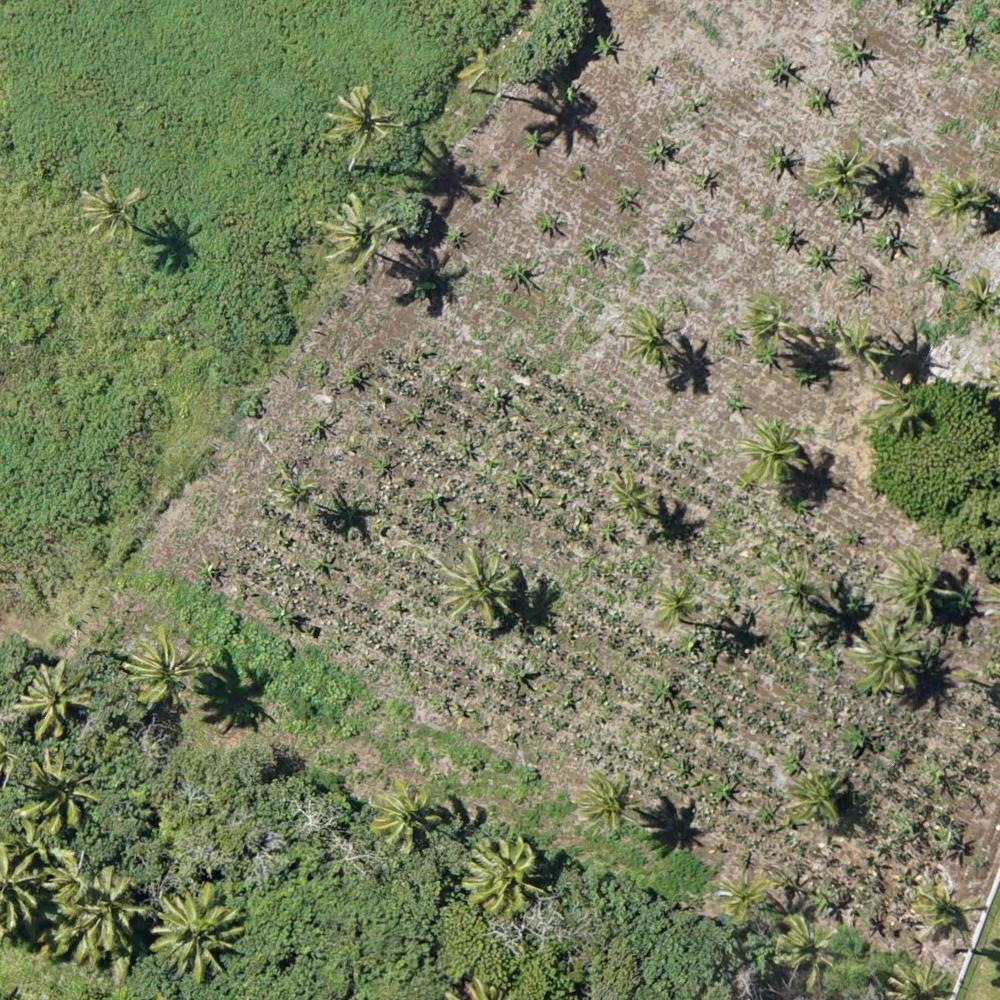Palm: (149, 886, 247, 983), (49, 861, 134, 948), (465, 833, 548, 913), (320, 196, 399, 273), (434, 547, 514, 623), (18, 755, 96, 832), (883, 544, 956, 626), (321, 84, 396, 156), (15, 664, 90, 736), (370, 778, 441, 848), (855, 625, 928, 693), (738, 412, 804, 485), (126, 634, 196, 702), (78, 178, 143, 245), (908, 882, 976, 945), (776, 911, 839, 978), (791, 765, 853, 832), (578, 769, 639, 834), (929, 168, 991, 229), (808, 140, 873, 197), (624, 305, 686, 363), (767, 555, 824, 617), (650, 574, 705, 633), (737, 289, 793, 346), (715, 863, 766, 922), (608, 472, 659, 527)
